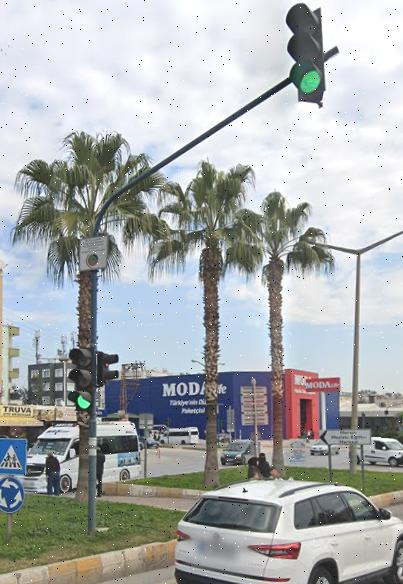greenlight: (284, 7, 329, 108), (70, 347, 92, 410)
